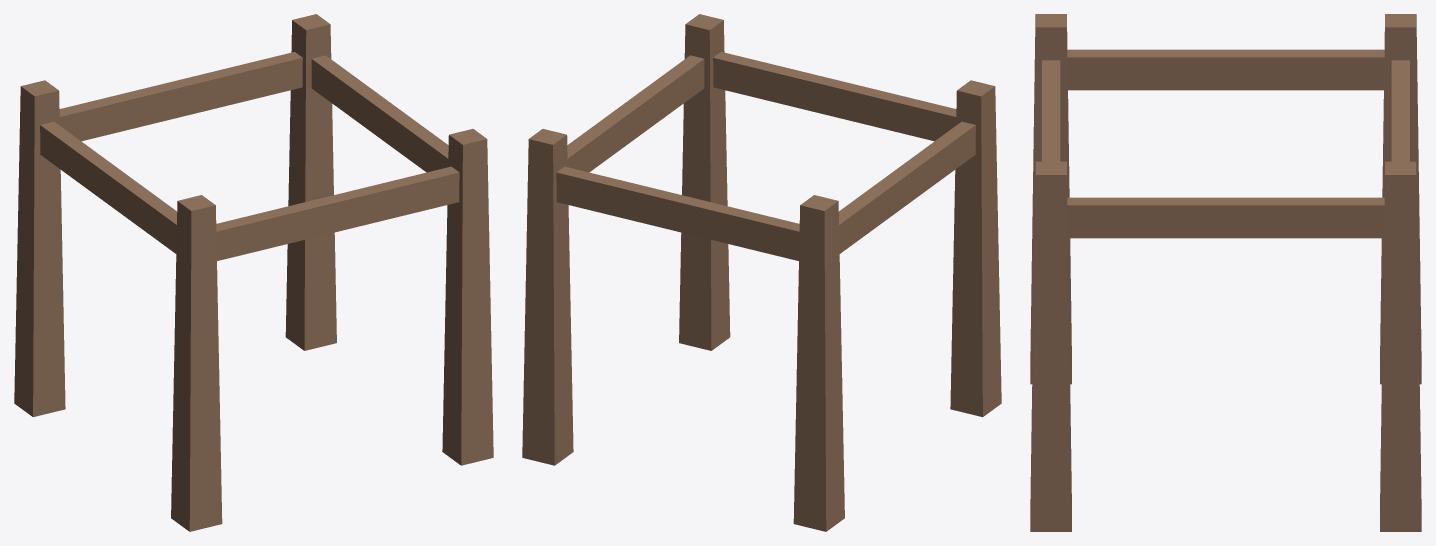
The model's file is structure.glb.
The picture shows the model from 3 angles, left to right: view 1: azimuth 30°, elevation 25°; view 2: azimuth 150°, elevation 25°; view 3: azimuth 270°, elevation 25°; orthographic projection. The views are drawn at different scales.
Bounding box in the file's own units: 0.5 × 0.5 × 0.5.
